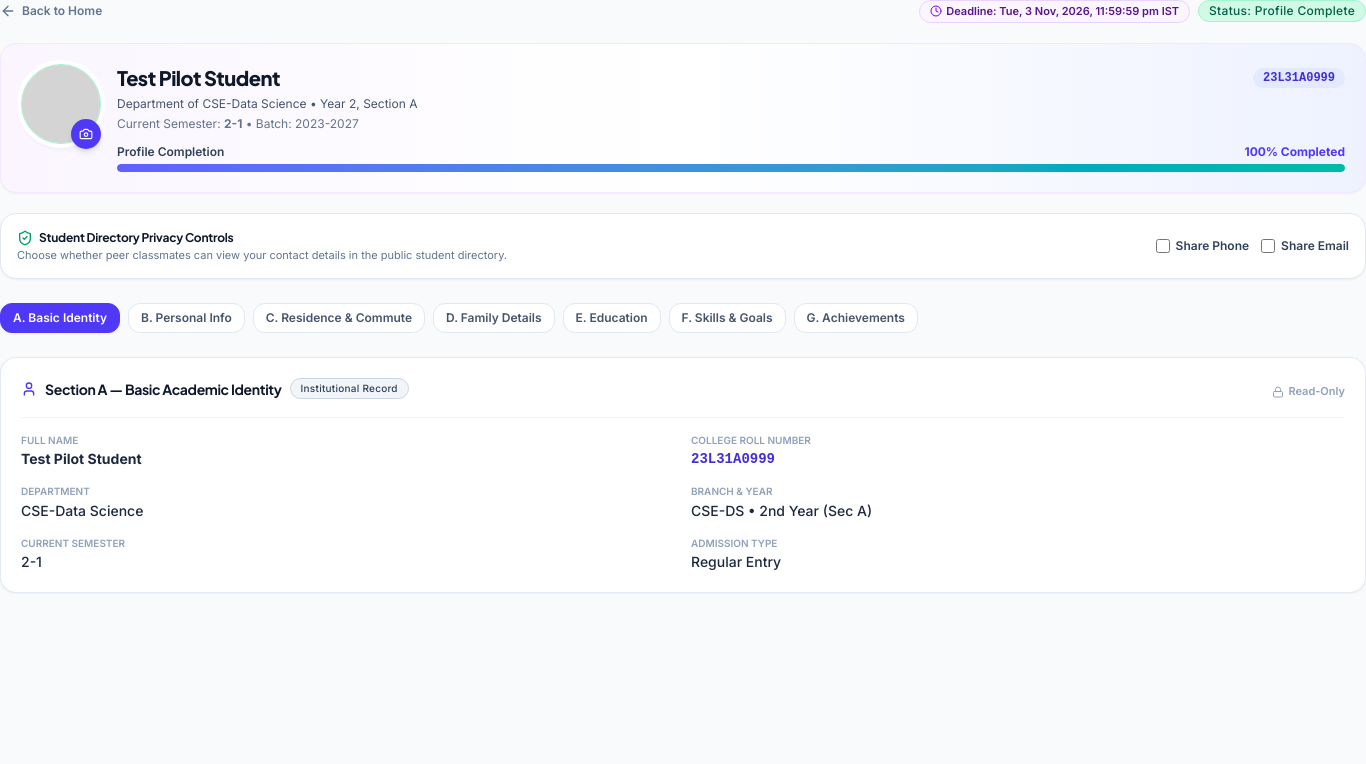
Scenario: Mentor Connect — Simplified Student Profile & Sections F and G › 4. Section F provides repeatable fields for technical skills with proficiency, soft skills, hobbies, and goals
Note: Switch to Tab F
Step 1. Click the tab "F. Skills & Goals" → (727, 318), box [669,303,786,333]
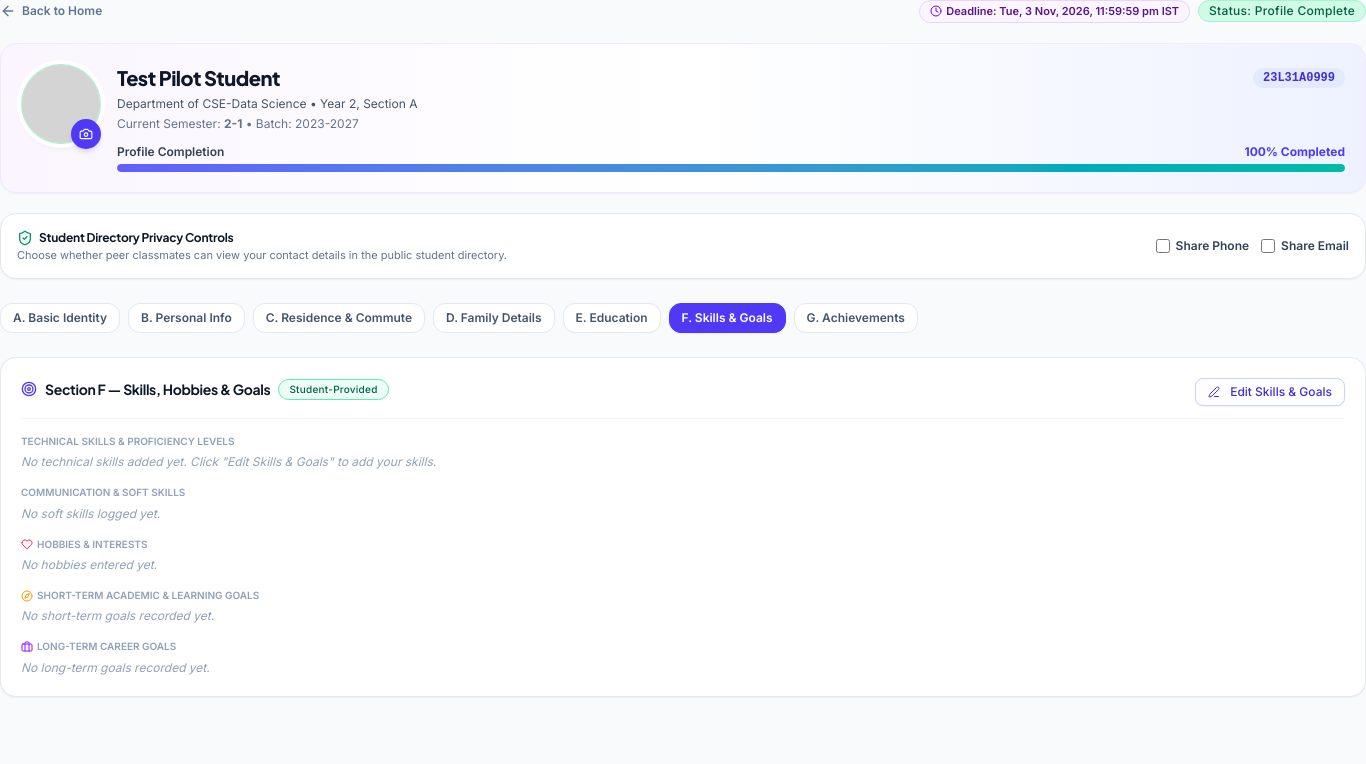
Expected: the heading "Section F — Skills, Hobbies & Goals" is shown, [21,379,270,399]
Expected: the button "Edit Skills & Goals" is shown
Note: Open Skills Modal
Step 2. Click the button "Edit Skills & Goals" → (1270, 392), box [1195,378,1345,406]
(page scrolled)
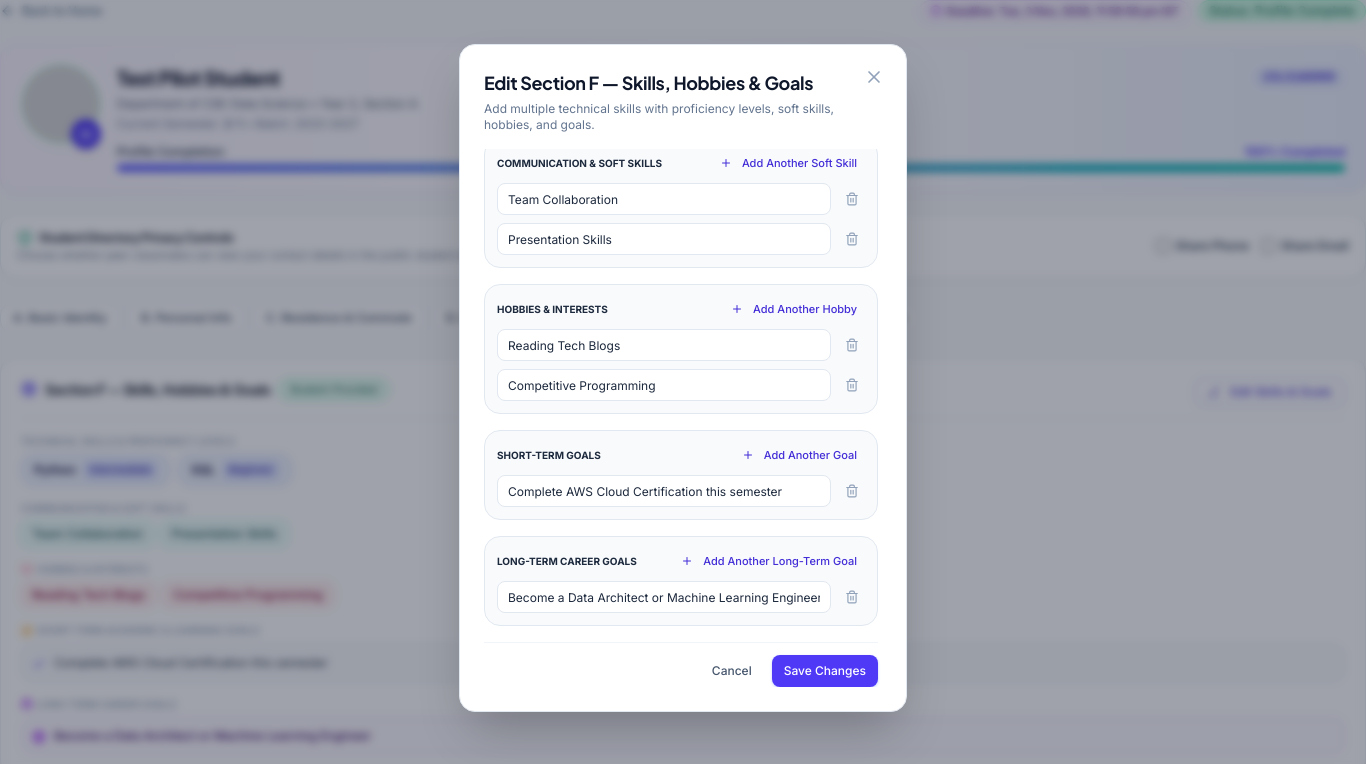
Expected: the button "Add Another Soft Skill" is shown, [712,151,865,175]
Expected: the button "Add Another Hobby" is shown, [723,297,865,321]
Expected: the button "Add Another Goal" is shown, [734,443,865,467]
Note: Click Save Changes
Step 3. Click the button "Save Changes" → (825, 671), box [772,655,878,687]
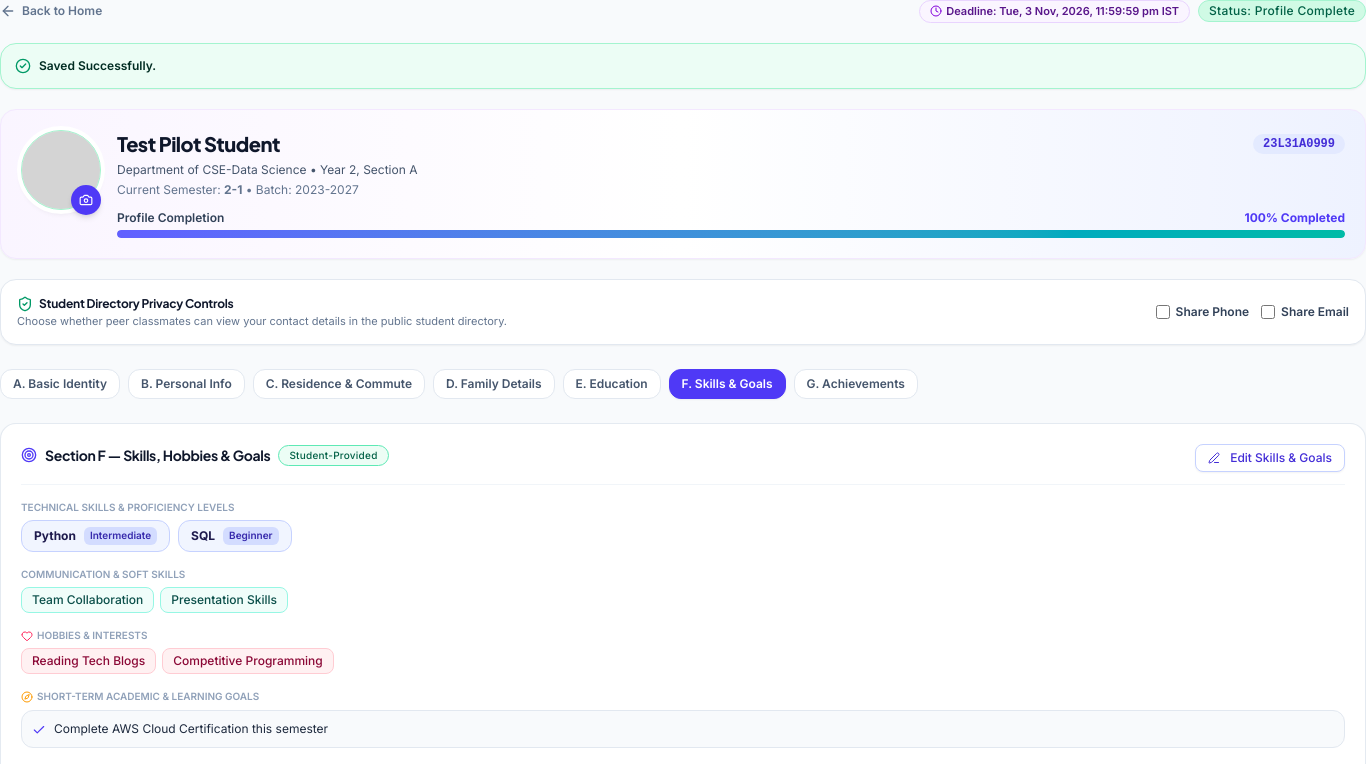
Expected: the text "Saved Successfully." is shown, [39,58,156,74]
